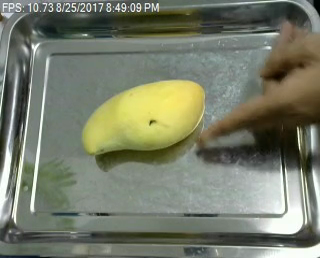Mango: (76, 77, 207, 159)
